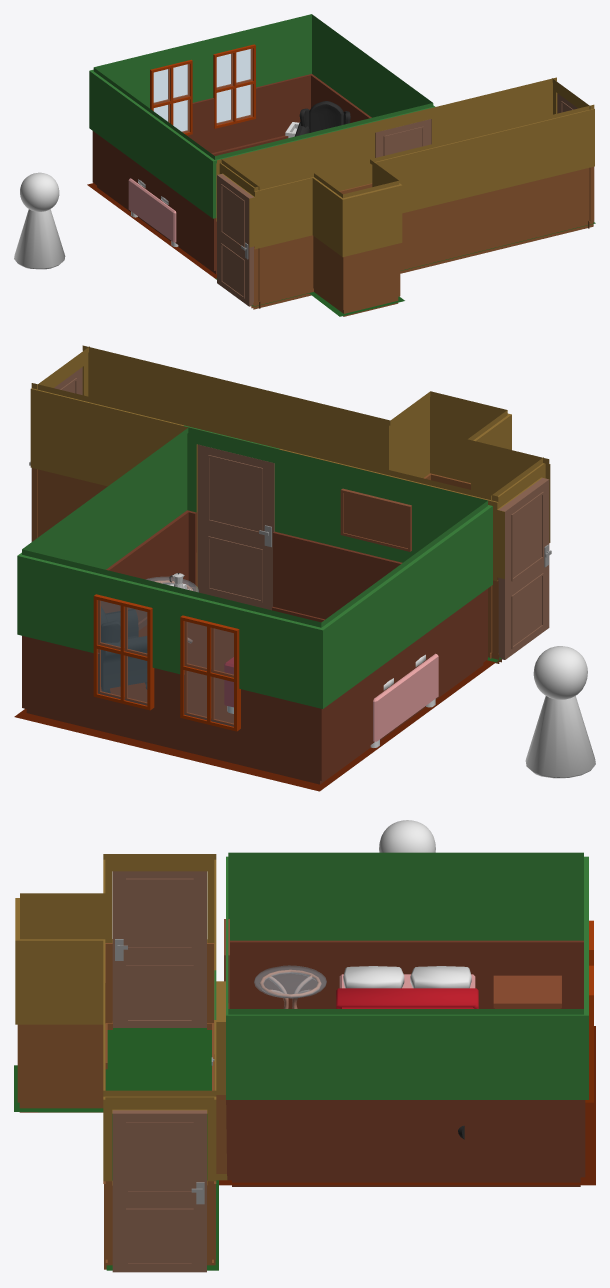
The model's file is quarto.fbx.
3 views of the same model, one above another, from view 1: azimuth 30°, elevation 25°; view 2: azimuth 150°, elevation 25°; view 3: azimuth 270°, elevation 25° (orthographic). The views are drawn at different scales.
Visible parts, largest first — view 1: Paredes, PortaSaida, Base, Janela.001, Janela, Cama, Porta, Sofa, ChaoQuarto, ChaoCorredor; view 2: Paredes, Porta, PortaSaida, ChaoQuarto, Base, Janela.001, Janela, Cama, Quadro, Sofa; view 3: Paredes, PortaEntrada, PortaSaida, ChaoCorredor, Cama, ChaoQuarto, Cabeceira, Mesa.001, Base, Janela.001.
Part boxes in pixels (bbox=[...]): Paredes: bbox=[89, 14, 594, 316]; PortaSaida: bbox=[217, 174, 253, 306]; Base: bbox=[14, 172, 65, 269]; Janela.001: bbox=[213, 44, 255, 128]; Janela: bbox=[150, 59, 192, 135]; Cama: bbox=[128, 178, 178, 246]; Porta: bbox=[375, 119, 431, 157]; Sofa: bbox=[295, 101, 350, 136]; ChaoQuarto: bbox=[87, 183, 216, 278]; ChaoCorredor: bbox=[215, 222, 595, 316]; Paredes: bbox=[17, 345, 550, 784]; Porta: bbox=[197, 444, 274, 610]; PortaSaida: bbox=[498, 478, 551, 659]; ChaoQuarto: bbox=[14, 622, 495, 791]; Base: bbox=[525, 646, 595, 778]; Janela.001: bbox=[93, 594, 154, 710]; Janela: bbox=[180, 615, 240, 731]; Cama: bbox=[224, 653, 438, 747]; Quadro: bbox=[340, 488, 411, 551]; Sofa: bbox=[101, 606, 147, 692]; Paredes: bbox=[15, 852, 588, 1269]; PortaEntrada: bbox=[112, 1110, 206, 1272]; PortaSaida: bbox=[112, 871, 206, 1027]; ChaoCorredor: bbox=[14, 1028, 218, 1270]; Cama: bbox=[336, 966, 478, 1008]; ChaoQuarto: bbox=[219, 1026, 595, 1185]; Cabeceira: bbox=[493, 975, 561, 1008]; Mesa.001: bbox=[254, 965, 326, 1008]; Base: bbox=[379, 820, 435, 852]; Janela.001: bbox=[585, 965, 593, 1102].
Bounding box in the file's own units: 861 × 211 × 617.
